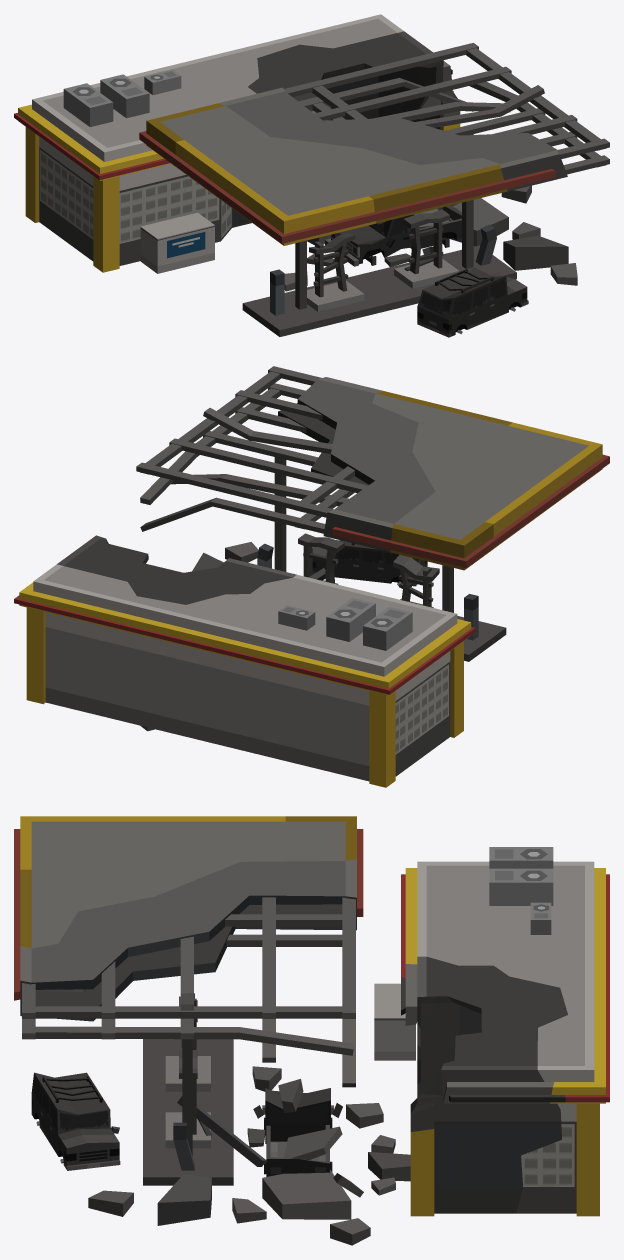
The model's file is SA_Bld_PetrolStation_Damaged_01.glb.
3 views of the same model, one above another, from view 1: azimuth 30°, elevation 25°; view 2: azimuth 150°, elevation 25°; view 3: azimuth 270°, elevation 25° (orthographic). The views are drawn at different scales.
Visible parts, largest first — view 1: SA_Bld_PetrolStation_Damaged_01; view 2: SA_Bld_PetrolStation_Damaged_01; view 3: SA_Bld_PetrolStation_Damaged_01.
Boxes of the visible parts, x1=… form: SA_Bld_PetrolStation_Damaged_01: x1=14, y1=14, x2=609, y2=337; SA_Bld_PetrolStation_Damaged_01: x1=14, y1=366, x2=609, y2=787; SA_Bld_PetrolStation_Damaged_01: x1=14, y1=816, x2=609, y2=1245.
Bounding box in the file's own units: 10.43 × 4.27 × 10.66.
Materials: 1 (1 with a texture image).
